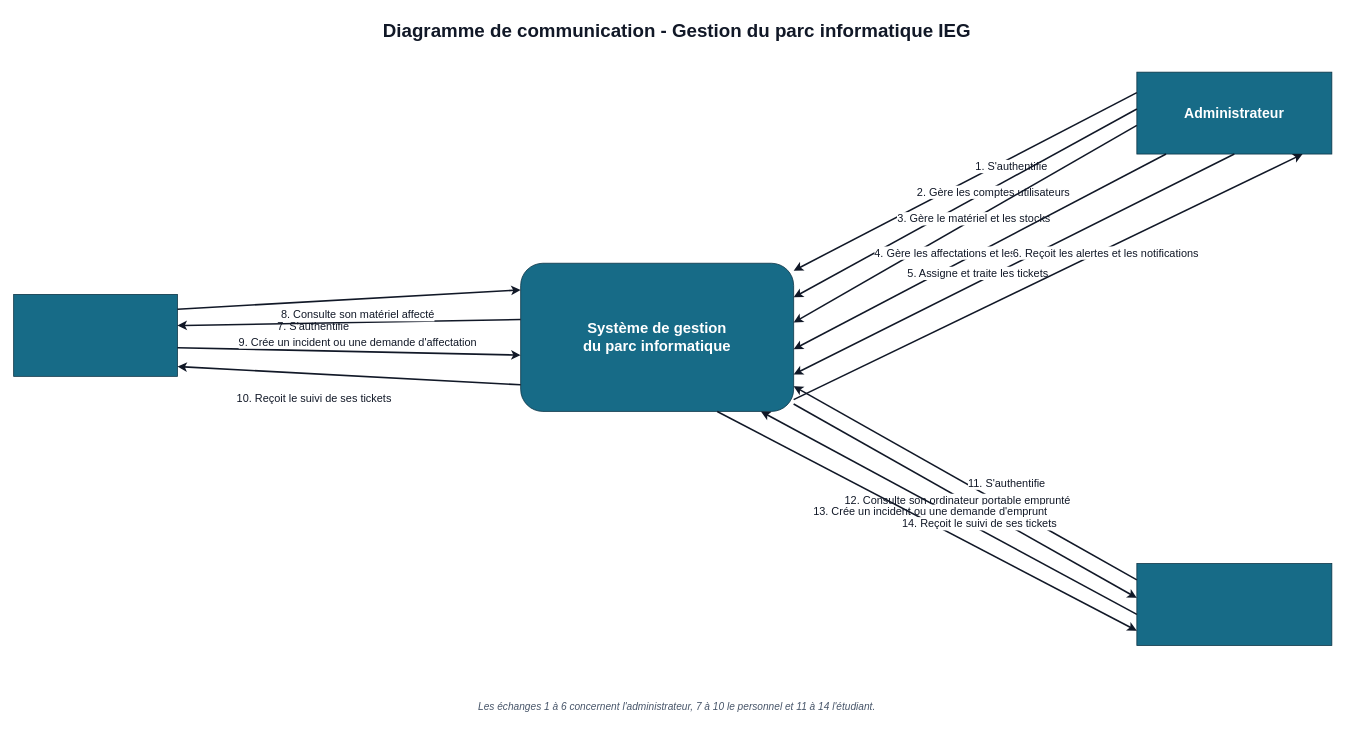
This 1346x732 diagram has some shape labels left out. Here are the shapes that lost their labels. From the top down, the box of each, then its label:
(13, 294, 177, 376): Personnel
(1136, 563, 1332, 645): Étudiant
